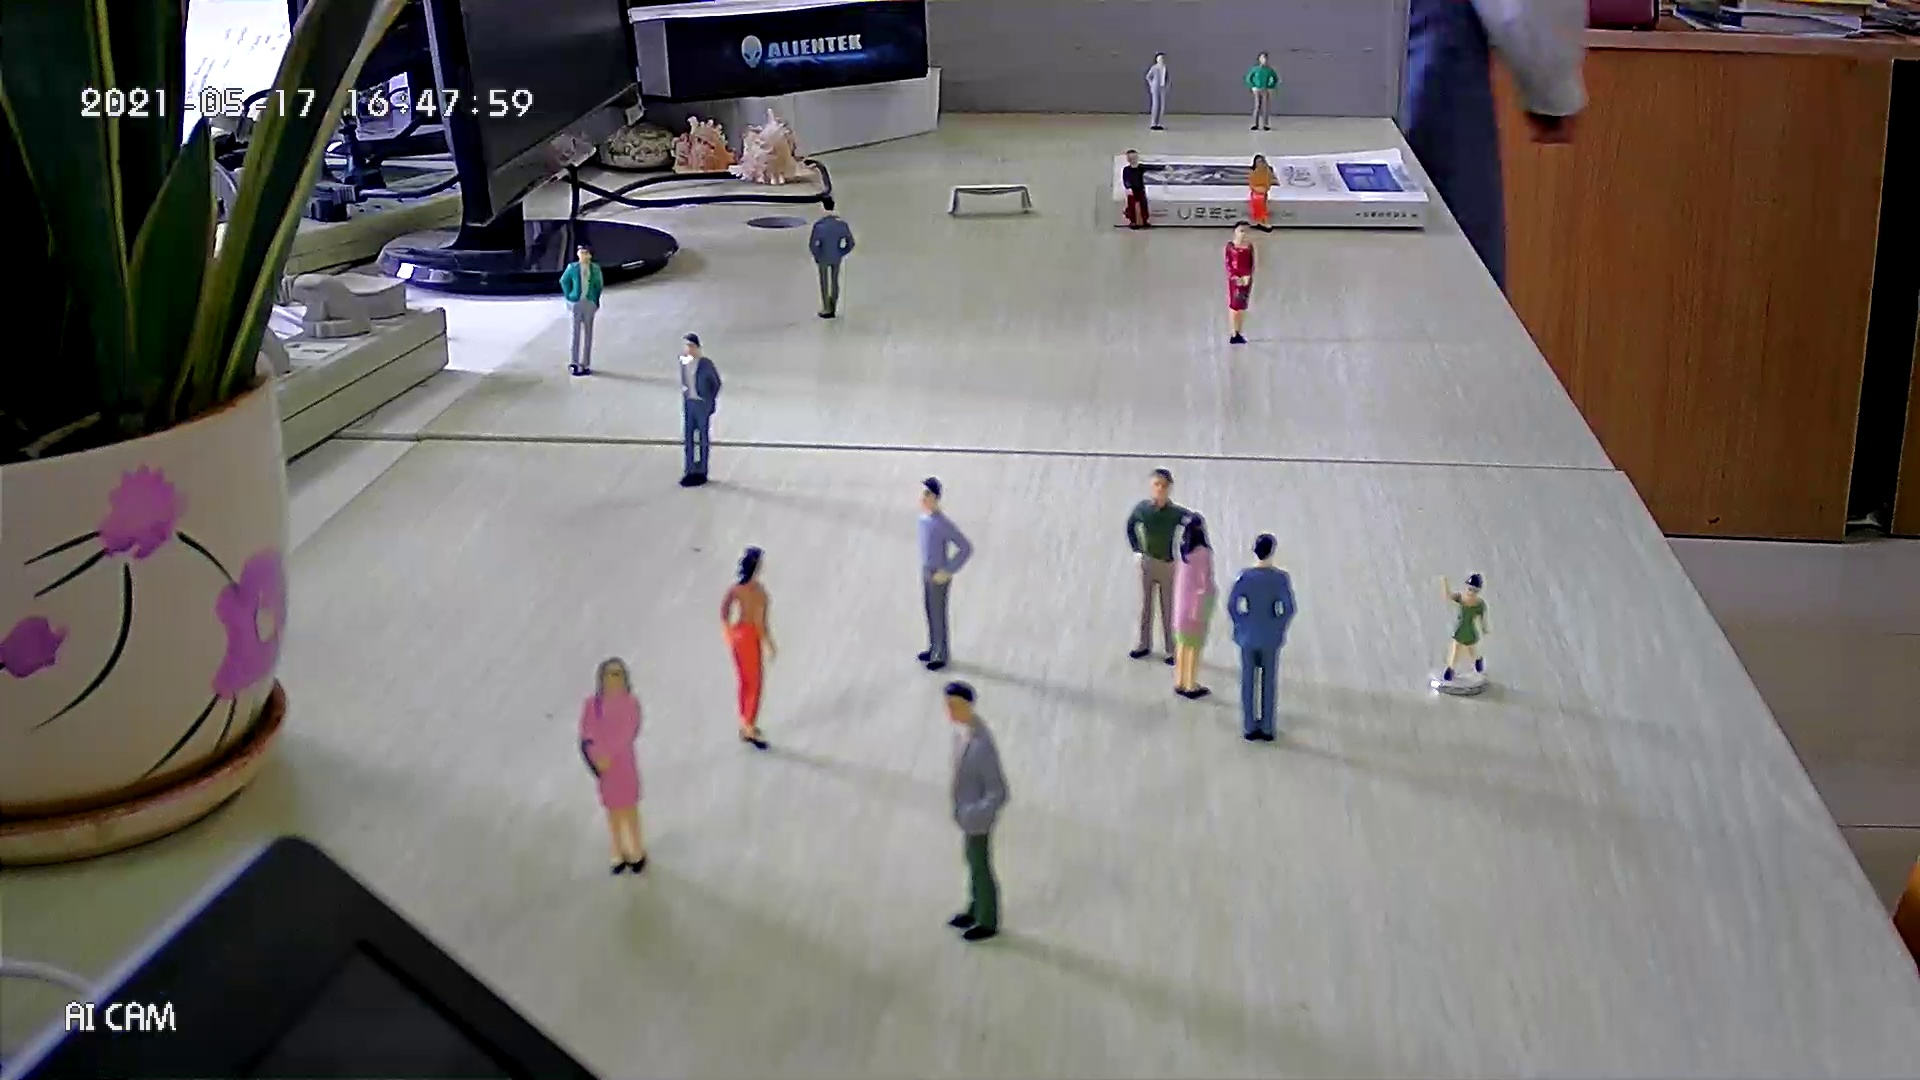person: (939, 680, 1015, 944), (573, 652, 655, 880), (1225, 530, 1301, 744), (1121, 466, 1197, 672), (719, 542, 783, 752), (911, 474, 977, 674), (1167, 510, 1221, 702), (675, 328, 727, 492), (1431, 566, 1497, 682), (555, 236, 605, 380), (805, 190, 859, 322), (1117, 146, 1177, 234), (1221, 220, 1261, 348), (1243, 152, 1283, 236), (1243, 48, 1281, 134), (1141, 46, 1175, 134)
